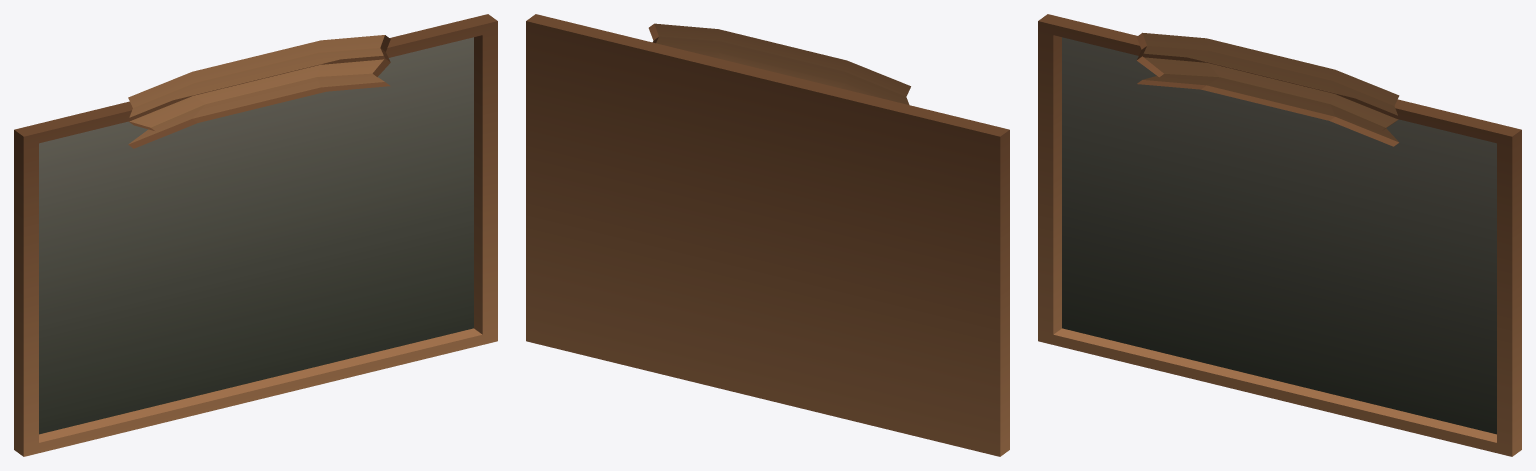
Rendered from quest_board.glb.
The picture shows the model from 3 angles, left to right: view 1: azimuth 30°, elevation 25°; view 2: azimuth 150°, elevation 25°; view 3: azimuth 330°, elevation 25°; orthographic projection.
Parts seen in each view (by area): view 1: Plane027; view 2: Plane027; view 3: Plane027.
Part boxes in pixels (x1,y1,x2,y2): Plane027: (14,14,497,456); Plane027: (526,14,1009,456); Plane027: (1038,14,1521,456).
Size of the model in its own units: 1.19 by 0.8267 by 0.0671.
1 material, 1 textured.
